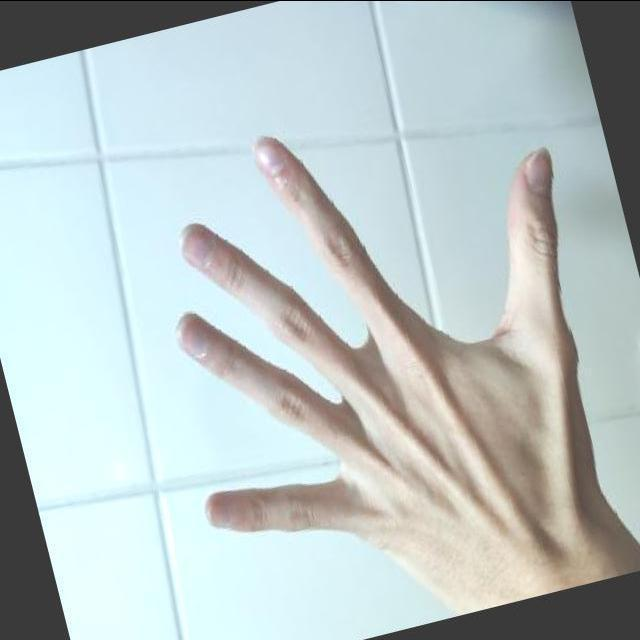hand: (165, 137, 640, 609)
